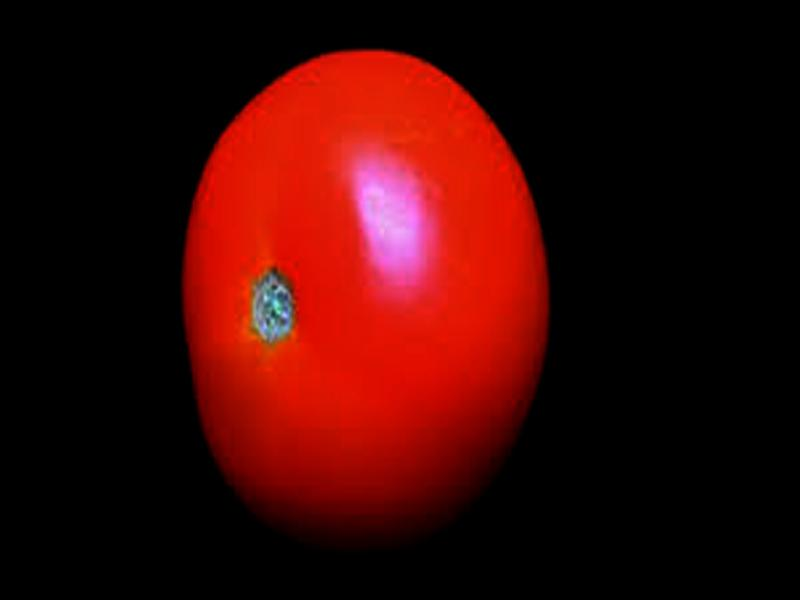Tomato: (181, 46, 549, 554)
